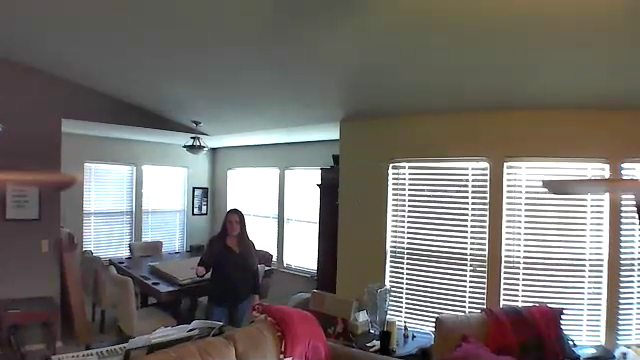land: (187, 261, 216, 281)
